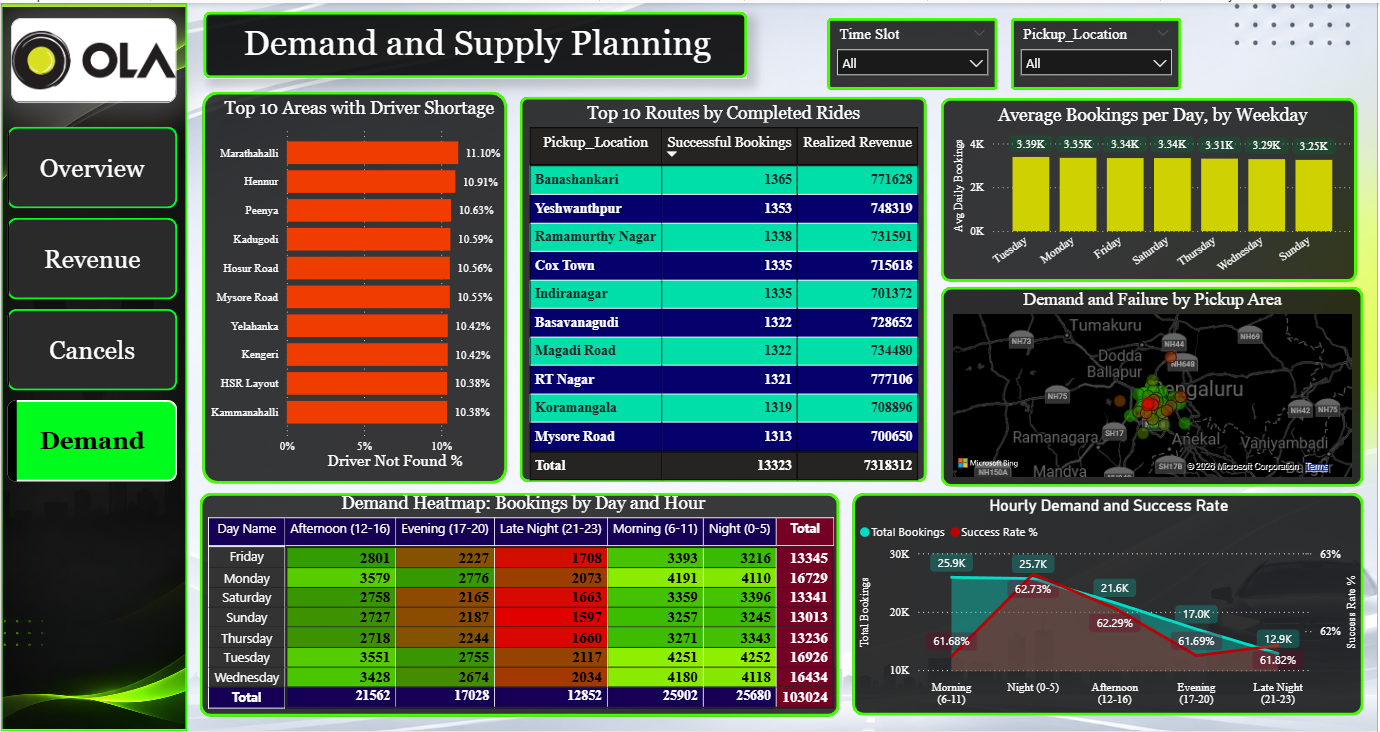

The dashboard page shown, as its layout file describes it:
{"tool":"powerbi","page":{"name":"Demand","canvas":[1450,768],"ordinal":3},"visuals":[{"type":"image","box":[0,0,195.7,768.6],"z":0,"group":"g4"},{"type":"shape","box":[870.2,15.4,179.4,75.7],"z":0},{"type":"shape","box":[990.3,100.4,438.3,193.7],"z":0,"group":"g5"},{"type":"shape","box":[990.3,299.4,445,210.8],"z":0,"group":"g6"},{"type":"shape","box":[897,516.4,538.7,234.5],"z":0,"group":"g3"},{"type":"shape","box":[1064.9,15.4,179.4,75.7],"z":1000},{"type":"image","box":[10.5,16,174.8,89.5],"z":1000,"group":"g4"},{"type":"shape","box":[213,8.6,572.9,70],"z":2000,"group":"g2"},{"type":"shape","box":[546.5,99,428.8,406],"z":2000},{"type":"textbox","box":[195.7,15.2,611.7,58.3],"z":3000,"group":"g2"},{"type":"shape","box":[212.4,93.7,321.2,413.2],"z":3000},{"type":"group","id":"g1","title":"Group 4","box":[0,0,195.7,768.6],"z":4000},{"type":"shape","box":[209,516,674,235.7],"z":5000},{"type":"areaChart","title":"Hourly Demand and Success Rate","fields":{"Category":["olaBookings_SQL_ready.Time Slot"],"Y":["olaBookings_SQL_ready.Total Bookings"],"Y2":["olaBookings_SQL_ready.Success Rate %"]},"box":[899.8,519.7,535.5,229.3],"z":5000,"group":"g3"},{"type":"group","id":"g2","title":"Group 5","box":[195.7,8.6,611.4,70],"z":6000},{"type":"clusteredColumnChart","title":"Average Bookings per Day, by Weekday","fields":{"Category":["dim_date.Day Name"],"Y":["olaBookings_SQL_ready.Avg Daily Bookings"]},"box":[998.1,108.6,430.5,192.6],"z":6000,"group":"g5"},{"type":"map","title":"Demand and Failure by Pickup Area","fields":{"Category":["olaBookings_SQL_ready.Map Location"],"Size":["olaBookings_SQL_ready.Total Bookings"]},"box":[998.7,302.6,429.9,202.9],"z":7000,"group":"g6"},{"type":"pivotTable","title":"Demand Heatmap: Bookings by Day and Hour","fields":{"Rows":["dim_date.Day Name"],"Columns":["olaBookings_SQL_ready.Time Slot"],"Values":["olaBookings_SQL_ready.Total Bookings"]},"box":[212.9,515.7,674,238.6],"z":7000},{"type":"group","id":"g3","title":"Group 1","box":[897,516.4,538.7,234.5],"z":8000},{"type":"barChart","title":"Top 10 Areas with Driver Shortage","fields":{"Category":["olaBookings_SQL_ready.Pickup_Location"],"Y":["olaBookings_SQL_ready.Driver Not Found %"]},"box":[209.1,100.4,336.2,396.5],"z":9000},{"type":"group","id":"g4","title":"Group 8","box":[0,0,195.7,768.6],"z":9001,"group":"g1"},{"type":"tableEx","title":"Top 10 Routes by Completed Rides","fields":{"Values":["olaBookings_SQL_ready.Pickup_Location","olaBookings_SQL_ready.Successful Bookings","olaBookings_SQL_ready.Realized Revenue"]},"box":[550.4,105.4,421.6,409.8],"z":10000},{"type":"group","id":"g5","title":"Group 2","box":[990.3,100.4,438.3,200.7],"z":11000},{"type":"group","id":"g6","title":"Group 3","box":[990.3,299.4,445,210.8],"z":12000},{"type":"slicer","fields":{"Values":["olaBookings_SQL_ready.Pickup_Location"]},"box":[1064.9,18.2,179.4,75.7],"z":13000},{"type":"pageNavigator","box":[7,130.3,179.4,376.9],"z":14000},{"type":"actionButton","box":[8.4,319.5,175.2,88.3],"z":15000},{"type":"actionButton","box":[9.8,225,175.2,88],"z":16000},{"type":"actionButton","box":[8.4,130.3,175.2,88.3],"z":17000},{"type":"slicer","fields":{"Values":["olaBookings_SQL_ready.Time Slot"]},"box":[870.2,18.2,179.4,75.7],"z":18000}]}

Visuals, with their boxes in screenshot pixels (x1, y1, x2, y2), scaled from the page's 1450x768 canvas onto the 1380x732 screenshot:
image: (0, 0, 186, 731)
shape: (828, 15, 999, 87)
shape: (942, 96, 1360, 280)
shape: (942, 285, 1366, 486)
shape: (854, 492, 1366, 716)
shape: (1013, 15, 1184, 87)
image: (10, 15, 176, 101)
shape: (203, 8, 748, 75)
shape: (520, 94, 928, 481)
textbox: (186, 14, 768, 70)
shape: (202, 89, 508, 483)
"Group 4" group: (0, 0, 186, 731)
shape: (199, 492, 840, 716)
"Hourly Demand and Success Rate" areaChart: (856, 495, 1366, 714)
"Group 5" group: (186, 8, 768, 75)
"Average Bookings per Day, by Weekday" clusteredColumnChart: (950, 104, 1360, 287)
"Demand and Failure by Pickup Area" map: (950, 288, 1360, 482)
"Demand Heatmap: Bookings by Day and Hour" pivotTable: (203, 492, 844, 719)
"Group 1" group: (854, 492, 1366, 716)
"Top 10 Areas with Driver Shortage" barChart: (199, 96, 519, 474)
"Group 8" group: (0, 0, 186, 731)
"Top 10 Routes by Completed Rides" tableEx: (524, 100, 925, 491)
"Group 2" group: (942, 96, 1360, 287)
"Group 3" group: (942, 285, 1366, 486)
slicer - olaBookings_SQL_ready.Pickup_Location: (1013, 17, 1184, 89)
pageNavigator: (7, 124, 177, 483)
actionButton: (8, 305, 175, 389)
actionButton: (9, 214, 176, 298)
actionButton: (8, 124, 175, 208)
slicer - olaBookings_SQL_ready.Time Slot: (828, 17, 999, 89)
